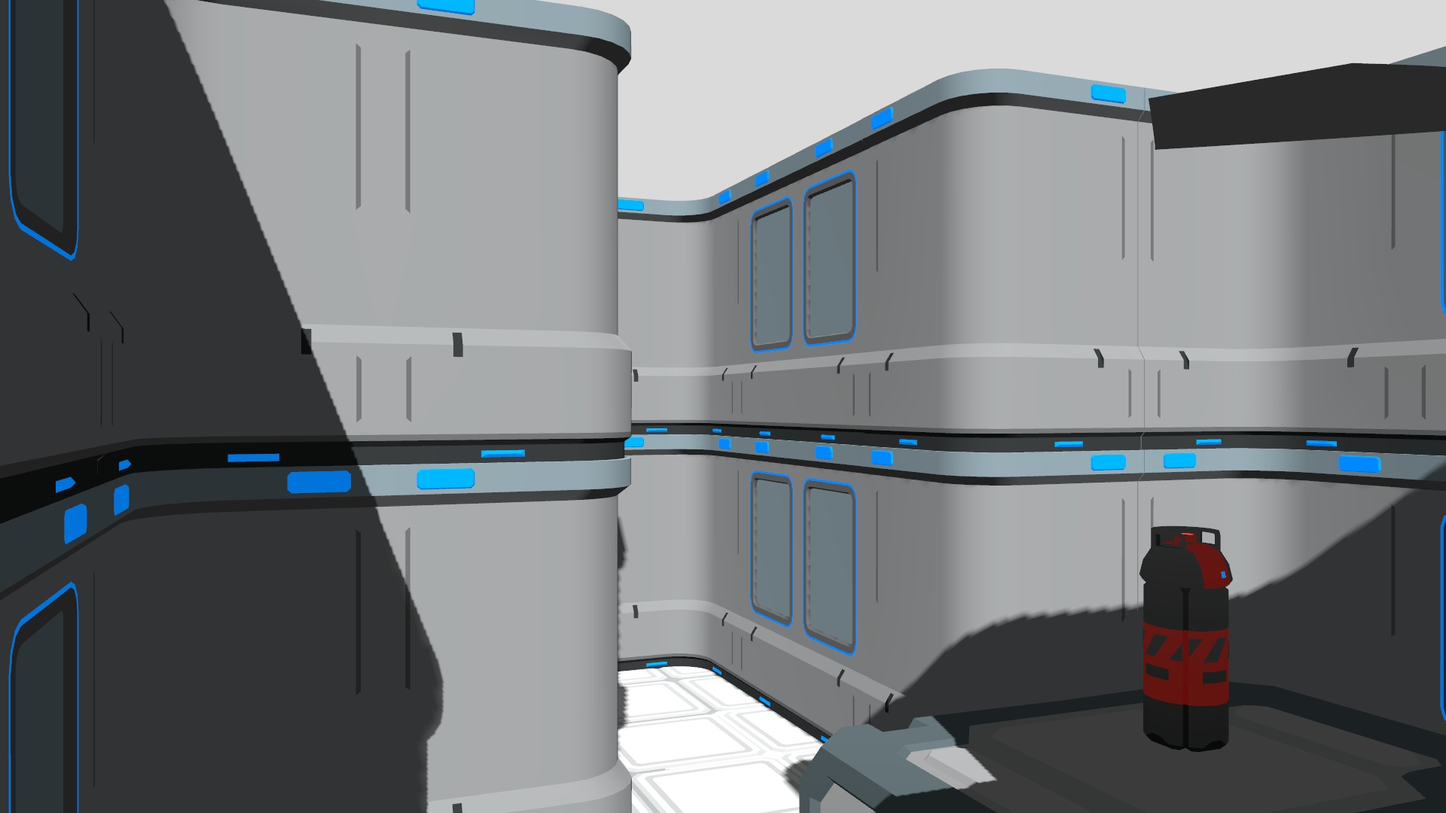red_barrel: (1140, 521, 1233, 762)
